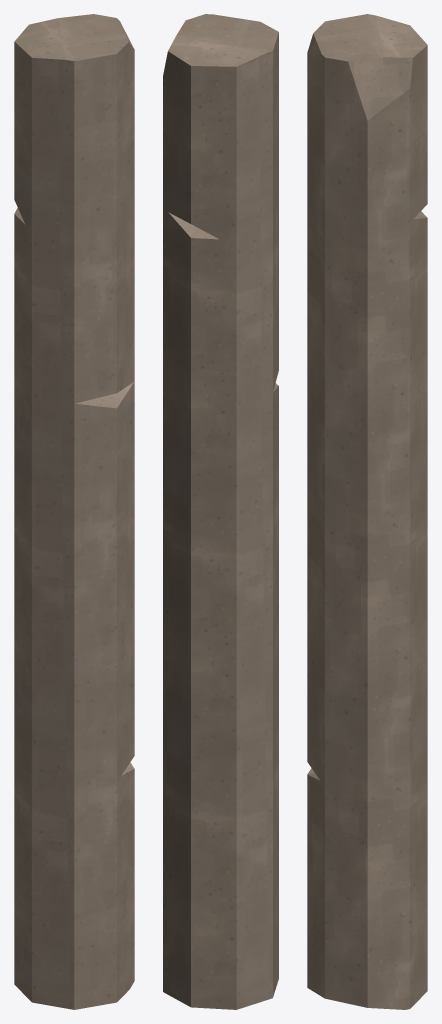
Rendered from Pillar_4.fbx.
3 views of the same model, side by side, from view 1: azimuth 90°, elevation 25°; view 2: azimuth 150°, elevation 25°; view 3: azimuth 270°, elevation 25° (orthographic).
Parts seen in each view (by area): view 1: _Pillar_4; view 2: _Pillar_4; view 3: _Pillar_4.
Part boxes in pixels (x1,y1,x2,y2): _Pillar_4: (14, 14, 134, 1009); _Pillar_4: (163, 14, 278, 1009); _Pillar_4: (307, 14, 427, 1009).
Size of the model in its own units: 83.4 by 727 by 83.4.
